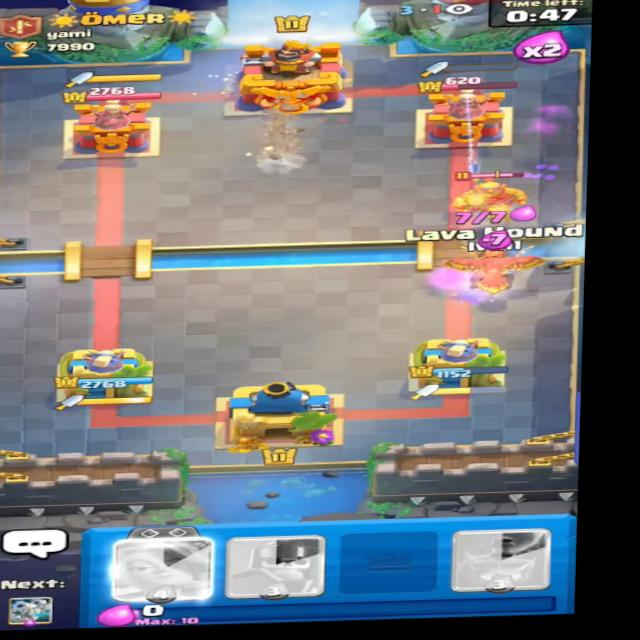goblin-demolisher: (445, 166, 535, 215)
trail: (244, 97, 312, 177)
